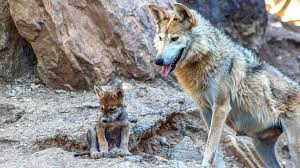Lobo: (143, 1, 300, 162), (75, 77, 139, 158)
